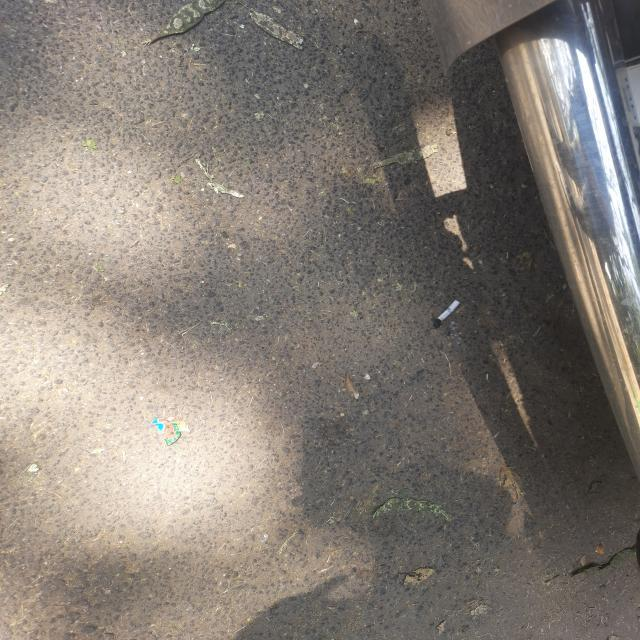Background: (0, 0, 638, 640)
Cig_bud: (433, 300, 460, 329)
